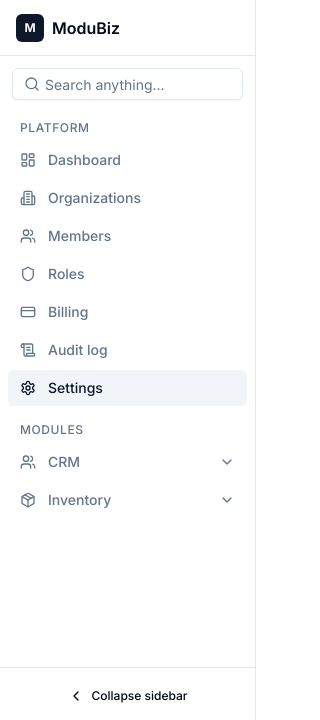
Test case: Sidebar — grouped module navigation › nests each module's links under a collapsible parent
Expected: the link "Contacts" is not shown
Click the button "CRM".
click(128, 462)  # box [8,444,247,480]
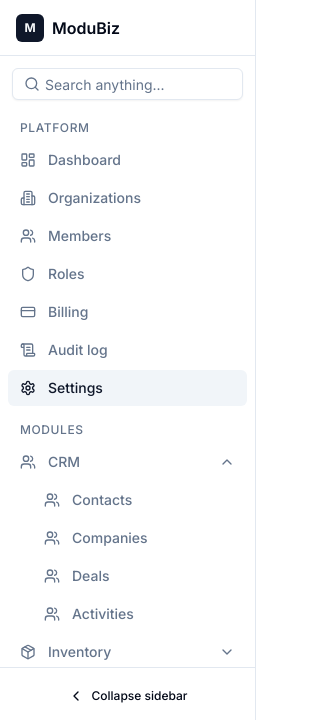
Result: the button "CRM" is expanded
Result: the link "Activities" is shown at [44,605,134,622]
Click the button "CRM".
click(128, 462)  # box [8,444,247,480]
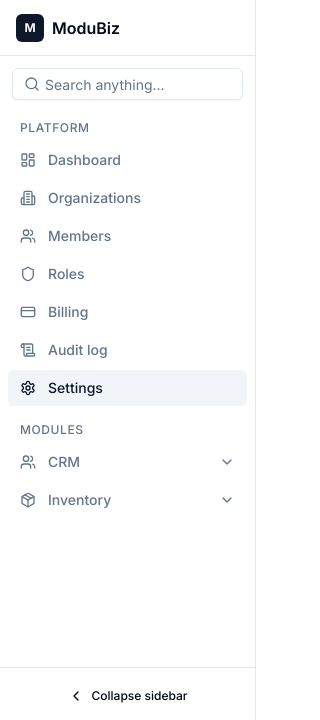
Result: the link "Contacts" is gone
